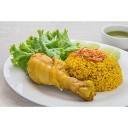briyani: (29, 49, 122, 93)
